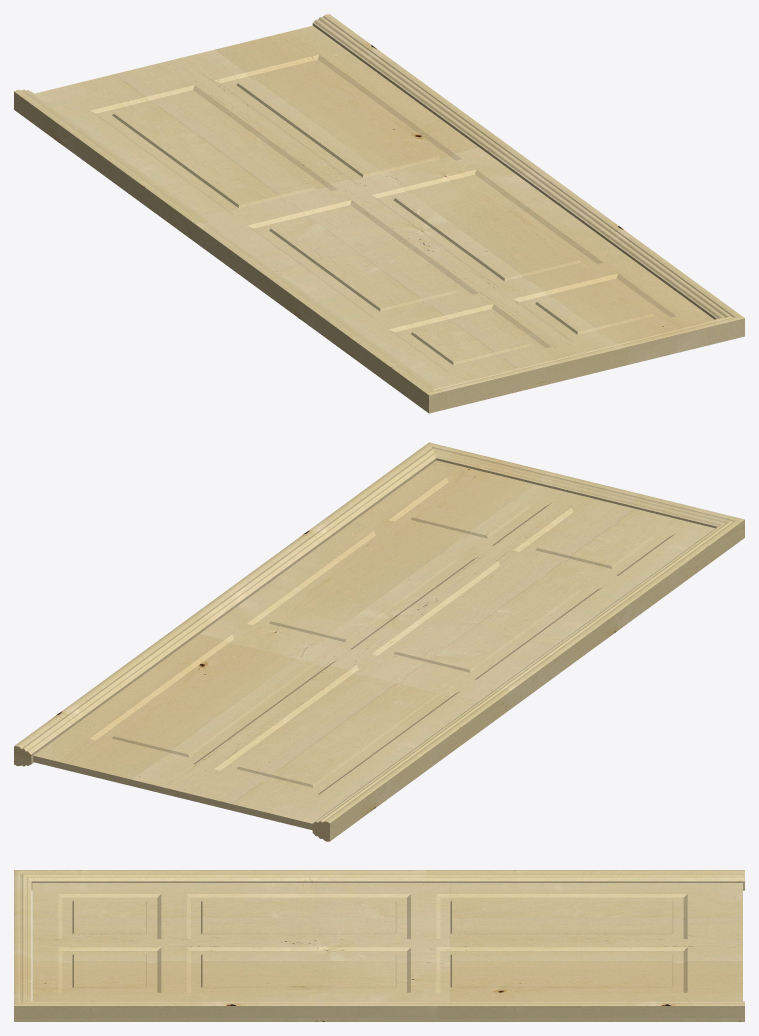
The model's file is 10057_wooden_door_v3_iterations-2.obj.
3 renders of one model, top to bottom at view 1: azimuth 30°, elevation 25°; view 2: azimuth 150°, elevation 25°; view 3: azimuth 270°, elevation 25°, orthographic. The views are drawn at different scales.
Visible parts, largest first — view 1: 10057_wooden_door_v3_iterations-2.001, 10057_wooden_door_v3_iterations-2; view 2: 10057_wooden_door_v3_iterations-2.001, 10057_wooden_door_v3_iterations-2; view 3: 10057_wooden_door_v3_iterations-2.001, 10057_wooden_door_v3_iterations-2.
Boxes of the visible parts, <box> form: 10057_wooden_door_v3_iterations-2.001: <box>35,25,713,387</box>; 10057_wooden_door_v3_iterations-2: <box>14,14,744,413</box>; 10057_wooden_door_v3_iterations-2.001: <box>33,460,714,830</box>; 10057_wooden_door_v3_iterations-2: <box>14,442,744,841</box>; 10057_wooden_door_v3_iterations-2.001: <box>32,883,742,1001</box>; 10057_wooden_door_v3_iterations-2: <box>14,870,744,1021</box>.
Bounding box in the file's own units: 90.95 × 5.51 × 207.
1 material, 1 textured.
